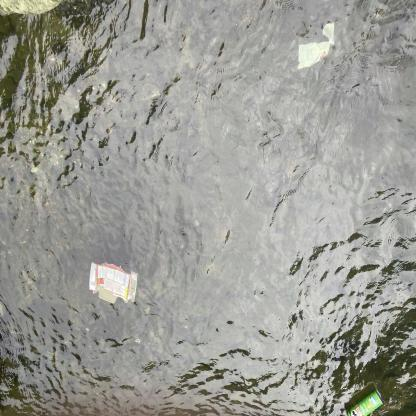Metal: (344, 382, 387, 416)
Plastic: (292, 13, 340, 72)
